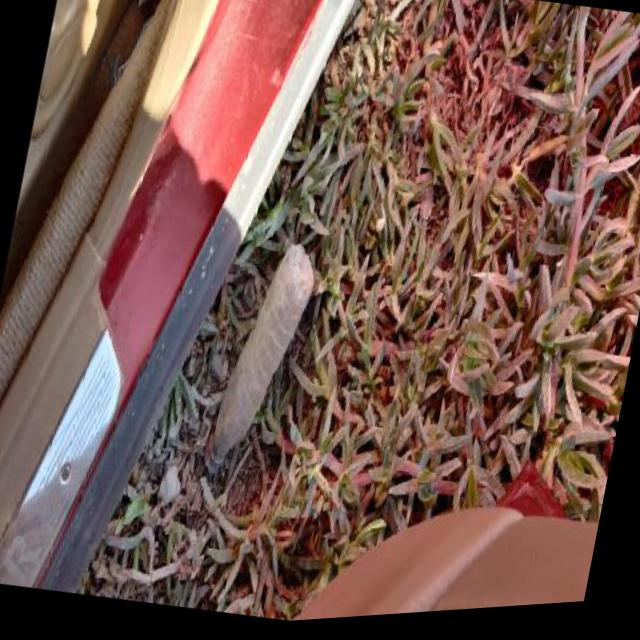plastic: (198, 230, 320, 488)
